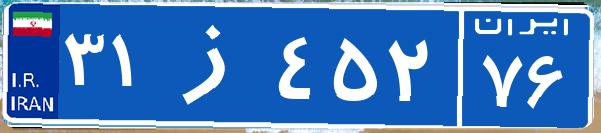1: (110, 28, 158, 105)
2: (385, 28, 445, 110)
3: (57, 26, 110, 107)
4: (273, 28, 330, 110)
5: (330, 28, 385, 110)
6: (525, 38, 570, 115)
7: (475, 38, 525, 113)
ز: (158, 15, 273, 115)
